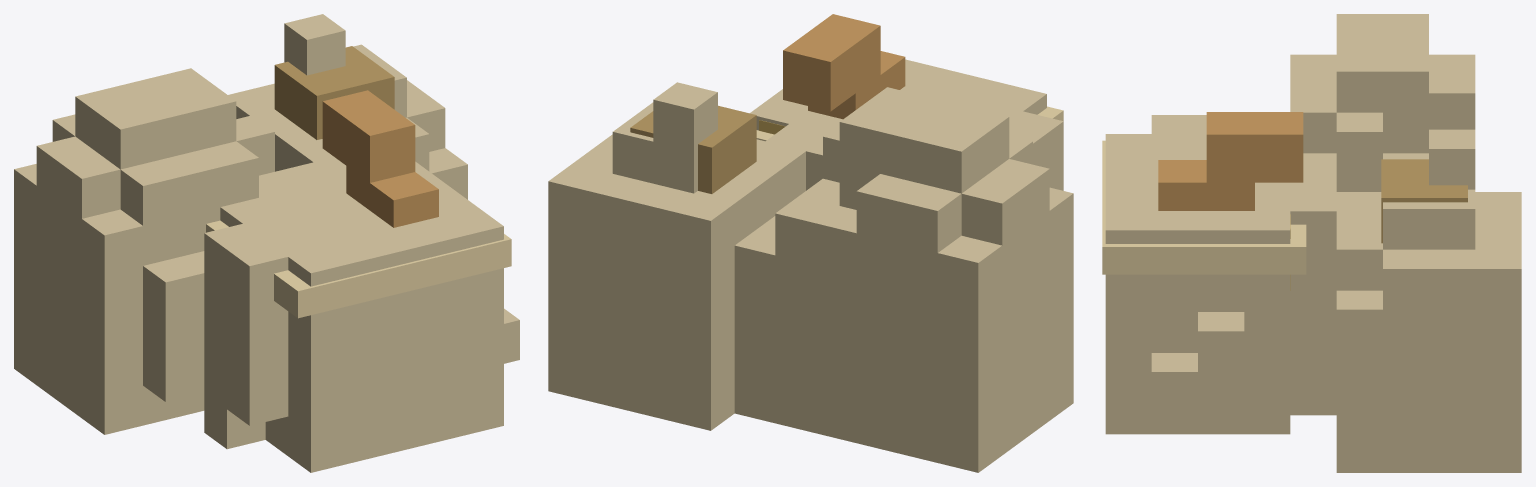
The model's file is seed-sack-pixor-blocky.glb.
The picture shows the model from 3 angles, left to right: view 1: azimuth 30°, elevation 25°; view 2: azimuth 150°, elevation 25°; view 3: azimuth 270°, elevation 25°; orthographic projection. The views are drawn at different scales.
Parts seen in each view (by area): view 1: Sacks, Sack scoop, Sack rim, Sack ties; view 2: Sacks, Sack scoop, Sack ties; view 3: Sacks, Sack scoop, Sack rim, Sack ties.
Boxes of the visible parts, <box> form: Sacks: <box>14,14,519,472</box>; Sack scoop: <box>322,90,438,227</box>; Sack rim: <box>206,220,511,318</box>; Sack ties: <box>274,46,394,139</box>; Sacks: <box>548,59,1073,472</box>; Sack scoop: <box>783,14,905,119</box>; Sack ties: <box>630,105,756,193</box>; Sacks: <box>1105,14,1521,472</box>; Sack scoop: <box>1158,112,1303,210</box>; Sack rim: <box>1102,140,1306,274</box>; Sack ties: <box>1381,159,1467,243</box>.
Bounding box in the file's own units: 1.19 × 0.825 × 1.1.
